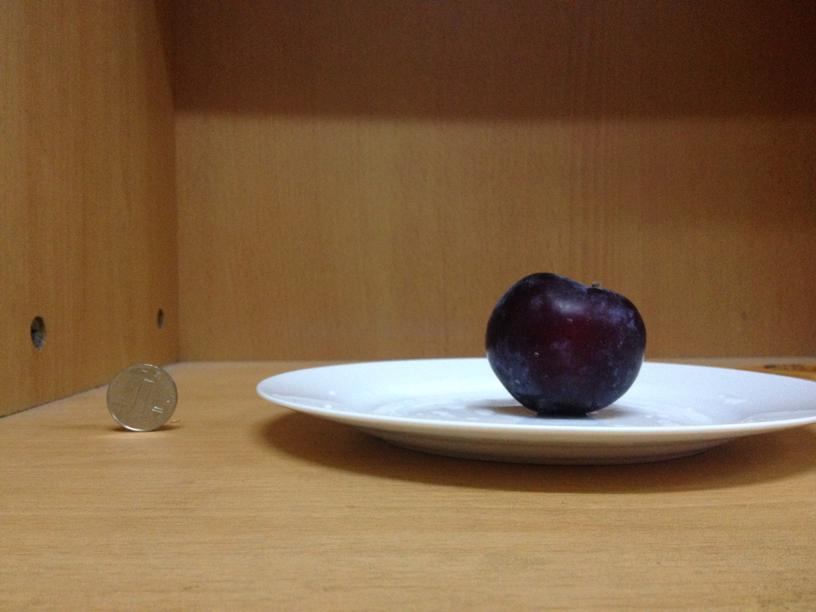coin: (102, 363, 174, 433)
plum: (478, 269, 646, 416)
